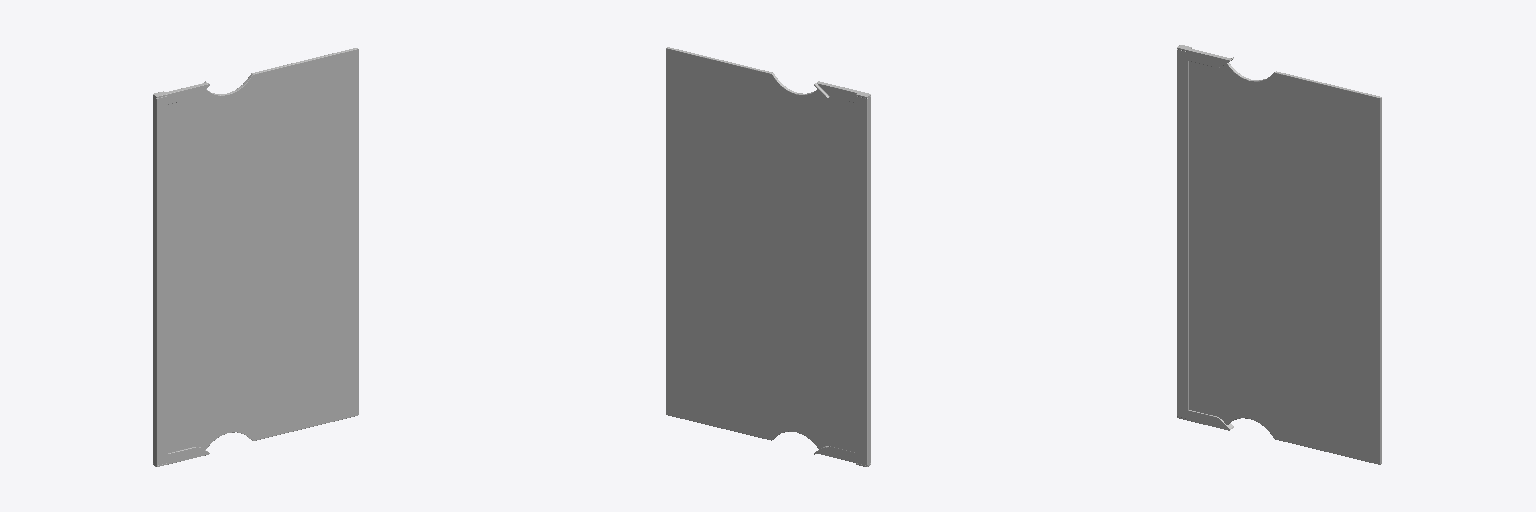
Rendered from SM_Fridge_Shelf.obj.
The picture shows the model from 3 angles: view 1: azimuth 30°, elevation 25°; view 2: azimuth 150°, elevation 25°; view 3: azimuth 330°, elevation 25°; orthographic projection.
Parts seen in each view (by area): view 1: SM_Fridge_Shelf; view 2: SM_Fridge_Shelf; view 3: SM_Fridge_Shelf.
Part boxes in pixels (left/top/right/bottom): SM_Fridge_Shelf: left=153, top=48, right=358, bottom=466; SM_Fridge_Shelf: left=666, top=47, right=870, bottom=466; SM_Fridge_Shelf: left=1177, top=45, right=1381, bottom=464.
Bounding box in the file's own units: 0.2682 × 0.4684 × 0.01.